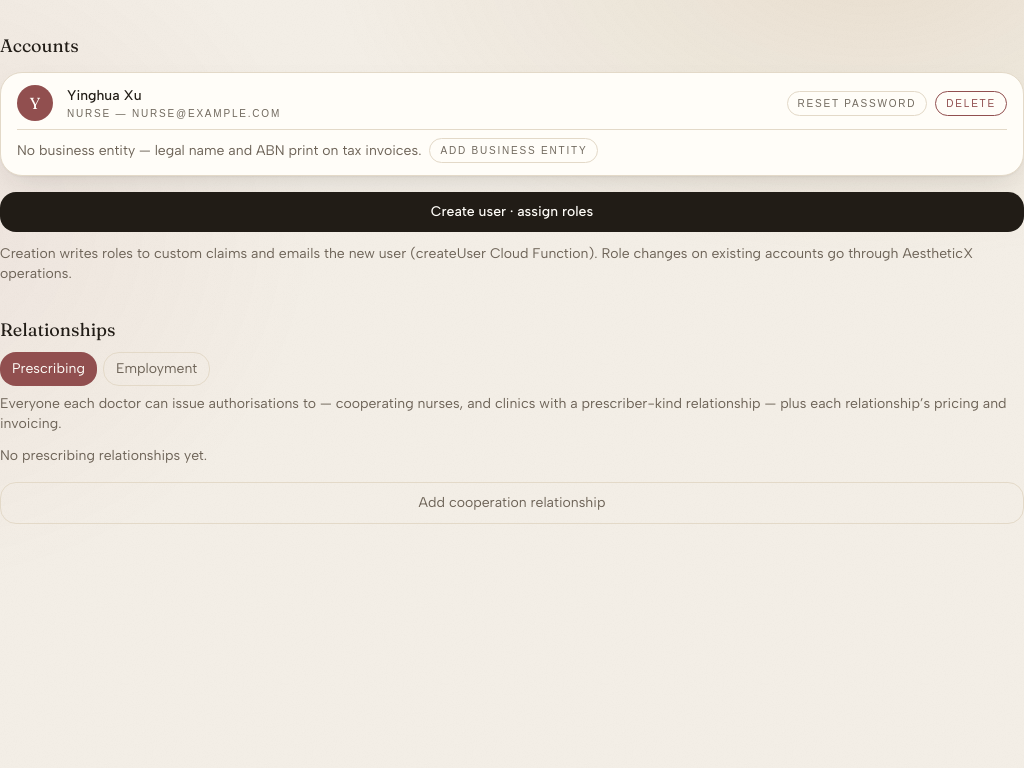
Test case: create-relationship counterparty types › with no clinics provisioned, explains instead of offering an empty picker, and disables Create
What coordinates should you click on to do the following:
click the button "Add cooperation relationship"
I would click on:
 (512, 503)
Its box is [0, 482, 1023, 524].
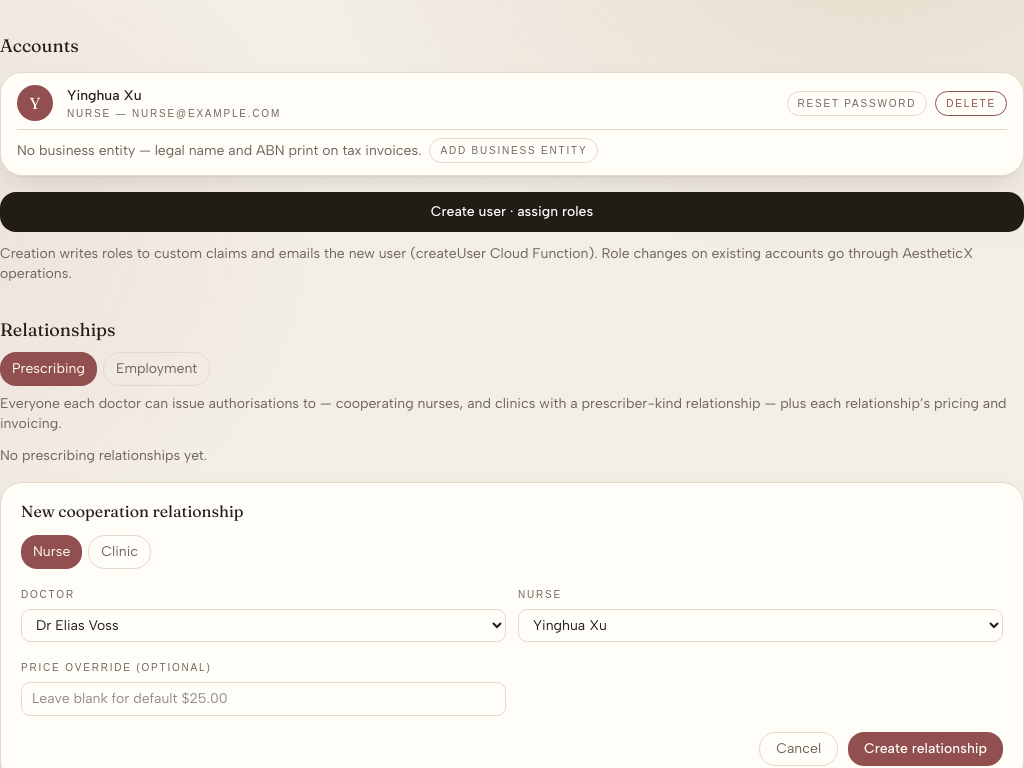
What coordinates should you click on to do the following:
click the button "Clinic"
I would click on:
 (120, 552)
Its box is [88, 535, 151, 569].
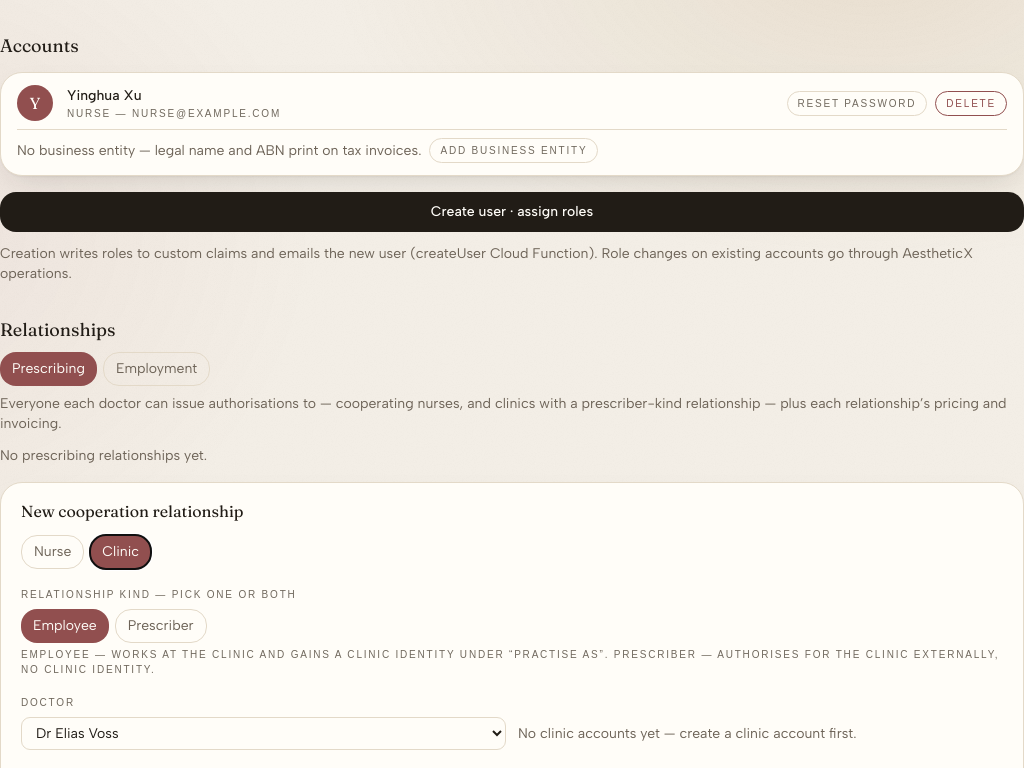
Check: the text "No clinic accounts yet — create a clinic account first." is shown, box [518, 725, 857, 742]
What coordinates should you click on to do the following:
click the button "Nurse"
I would click on:
 (53, 552)
Its box is [21, 535, 84, 569].
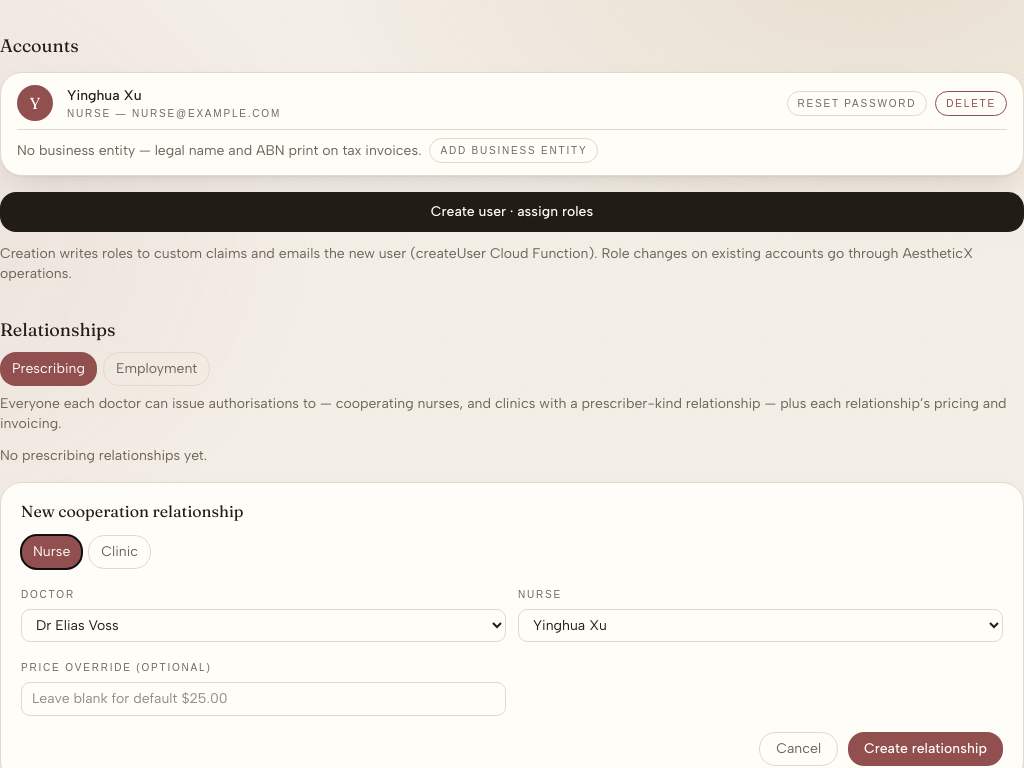
Check: the dropdown labelled "Nurse" is shown, box [518, 609, 1003, 642]
